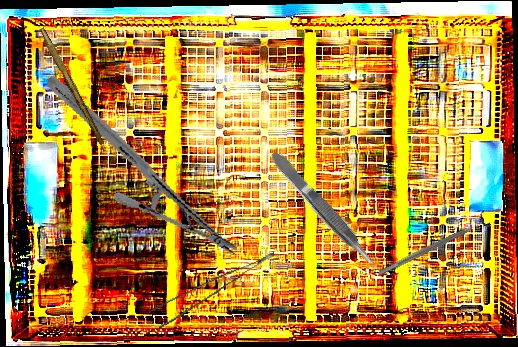Fixation Ring: (375, 209, 492, 282)
Needle Holder: (17, 73, 267, 259)
Scalpel Handle: (35, 27, 108, 146)
Tissue Forceps: (267, 146, 382, 275), (145, 252, 285, 330)
